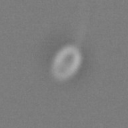normal: (74, 1, 107, 47)
